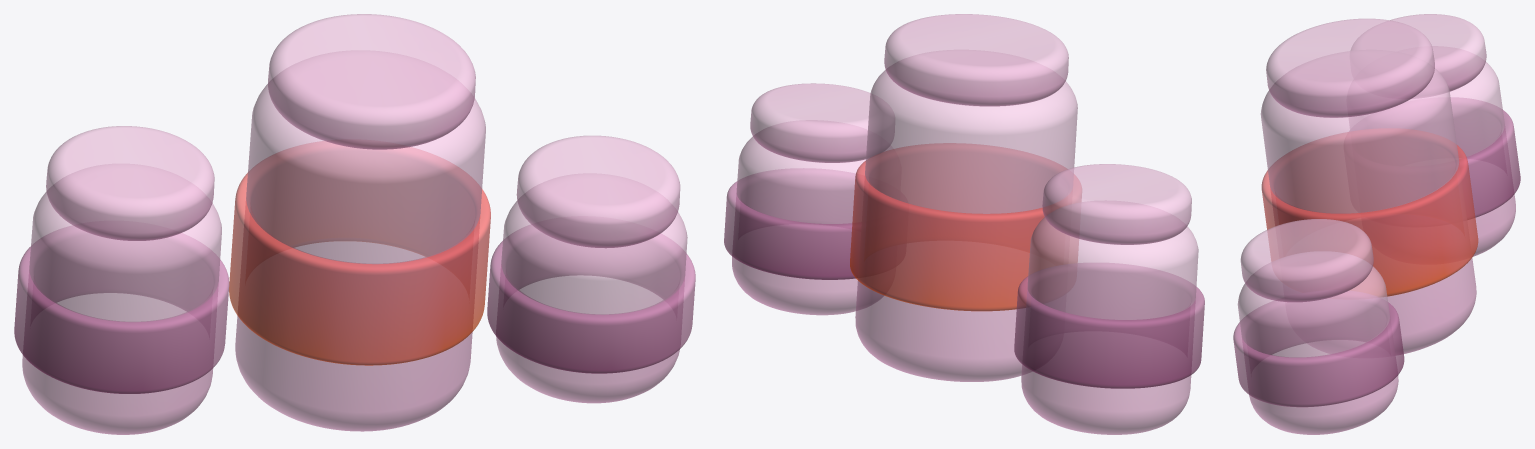
The model's file is labeled-jars.glb.
3 renders of one model, left to right at view 1: azimuth 30°, elevation 25°; view 2: azimuth 150°, elevation 25°; view 3: azimuth 270°, elevation 25°, orthographic. The views are drawn at different scales.
Visible parts, largest first — view 1: jar_body_2, jar_label_2, jar_body_1, jar_body_3, jar_label_1, jar_lid_2, jar_label_3, jar_lid_1, jar_lid_3; view 2: jar_body_2, jar_body_1, jar_label_2, jar_body_3, jar_label_1, jar_lid_2, jar_label_3, jar_lid_1, jar_lid_3; view 3: jar_body_2, jar_label_2, jar_body_3, jar_label_3, jar_lid_2, jar_body_1, jar_lid_3, jar_lid_1, jar_label_1.
Part boxes in pixels (box(x1,y1,x2,y2)): jar_body_2: box(235, 51, 485, 431); jar_label_2: box(229, 141, 490, 365); jar_body_1: box(22, 164, 221, 434); jar_body_3: box(496, 174, 687, 403); jar_label_1: box(14, 226, 229, 393); jar_lid_2: box(268, 14, 475, 149); jar_label_3: box(487, 225, 695, 373); jar_lid_1: box(46, 126, 214, 240); jar_lid_3: box(516, 135, 680, 248); jar_body_2: box(855, 50, 1077, 381); jar_body_1: box(1021, 201, 1198, 434); jar_label_2: box(850, 143, 1081, 311); jar_body_3: box(732, 120, 892, 315); jar_label_1: box(1014, 263, 1204, 388); jar_lid_2: box(884, 14, 1068, 106); jar_label_3: box(724, 168, 861, 279); jar_lid_1: box(1042, 164, 1191, 244); jar_lid_3: box(750, 83, 894, 162); jar_body_2: box(1260, 50, 1476, 354); jar_label_2: box(1261, 129, 1478, 296); jar_body_3: box(1237, 252, 1398, 434); jar_label_3: box(1233, 291, 1404, 407); jar_lid_2: box(1266, 18, 1434, 117); jar_body_1: box(1349, 46, 1515, 256); jar_lid_3: box(1240, 219, 1373, 302); jar_lid_1: box(1351, 14, 1486, 98); jar_label_1: box(1451, 98, 1520, 219).
Bounding box in the file's own units: 1.19 × 0.7137 × 0.6289.
